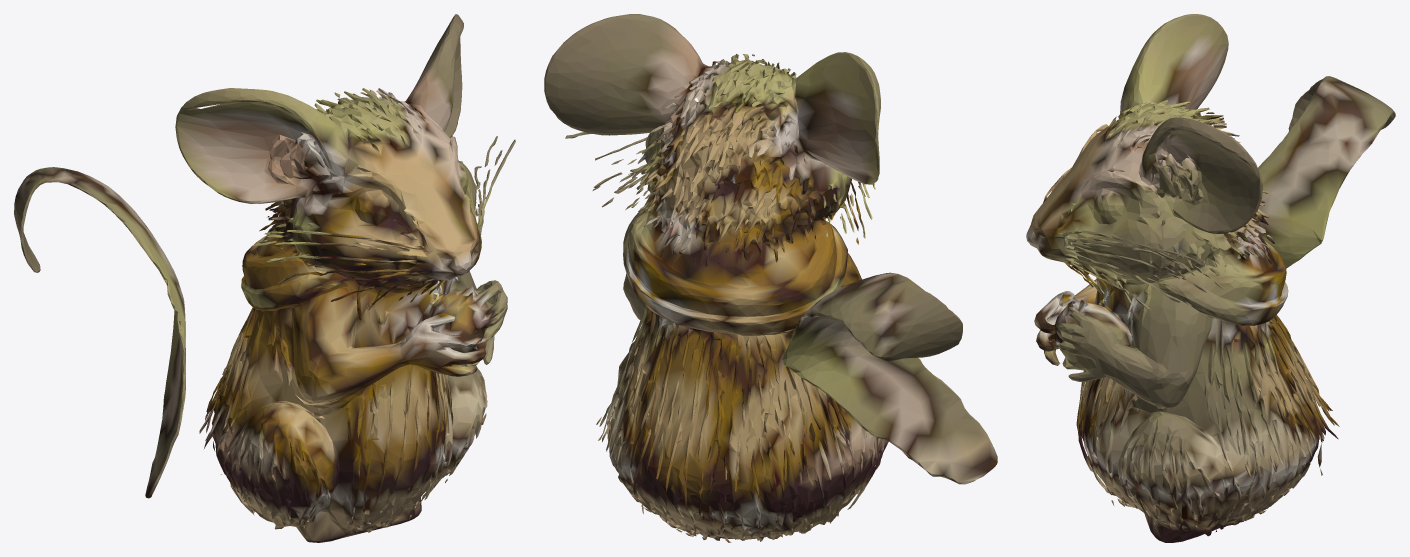
File: mouseSummon.glb
3 views of the same model, side by side, from view 1: azimuth 30°, elevation 25°; view 2: azimuth 150°, elevation 25°; view 3: azimuth 270°, elevation 25° (orthographic). The views are drawn at different scales.
Parts seen in each view (by area): view 1: world; view 2: world; view 3: world.
Part boxes in pixels (x1,y1,x2,y2): world: [14, 14, 515, 542]; world: [544, 14, 997, 542]; world: [1026, 14, 1395, 542].
Bounding box in the file's own units: 0.9618 × 1 × 0.7468.
